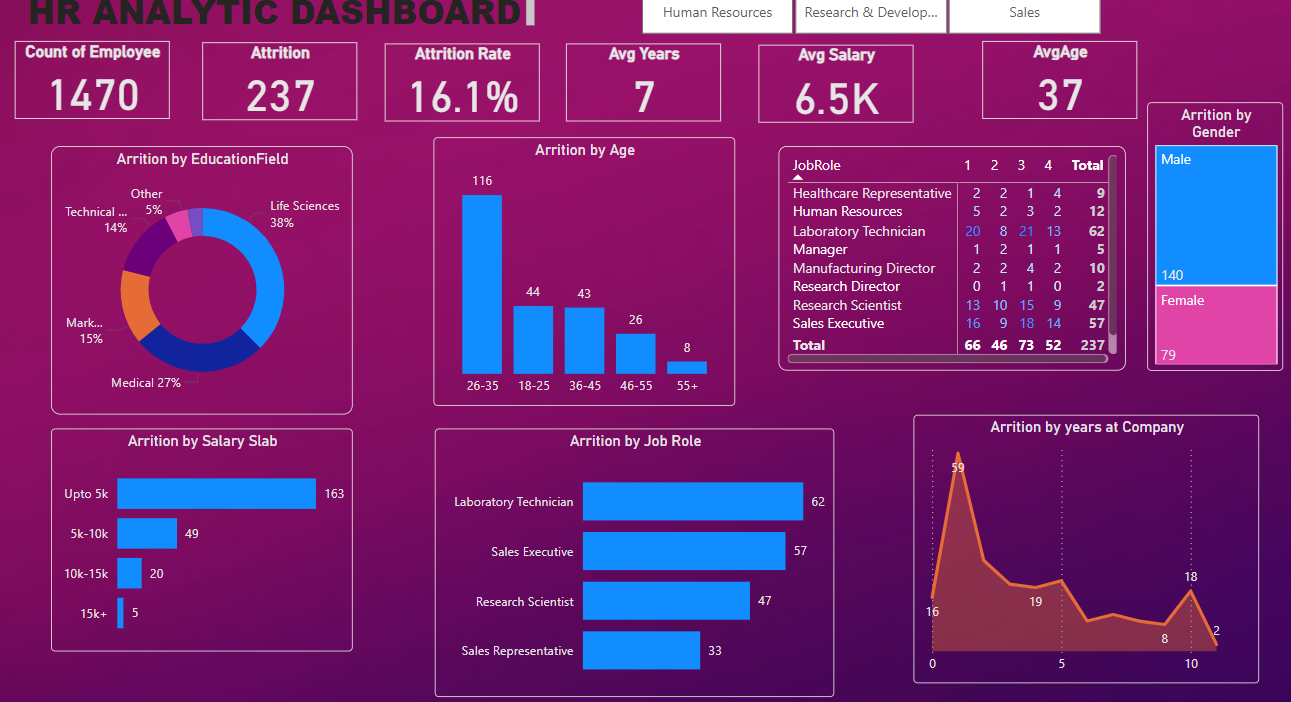

The dashboard page shown, as its layout file describes it:
{"tool":"powerbi","page":{"name":"Page 1","canvas":[1280,720],"ordinal":0},"visuals":[{"type":"card","title":"Count of Employee","fields":{"Values":["CountNonNull(HR_Analytics.EmpID)"]},"box":[42.1,57.5,149.6,75.5],"z":0},{"type":"card","title":"Attrition","fields":{"Values":["Sum(HR_Analytics.AttritionCount)"]},"box":[223.3,58.9,149.6,75.5],"z":1000},{"type":"card","title":"Attrition Rate","fields":{"Values":["HR_Analytics.AttritionRte"]},"box":[398.9,60.2,149.6,75.5],"z":2000},{"type":"card","title":"Avg Salary","fields":{"Values":["Avg(HR_Analytics.MonthlyIncome)"]},"box":[759.8,61.6,149.6,75.5],"z":3000},{"type":"card","title":"Avg Years","fields":{"Values":["Avg(HR_Analytics.YearsAtCompany)"]},"box":[574.5,60.2,149.6,75.5],"z":4000},{"type":"card","title":"AvgAge","fields":{"Values":["Avg(HR_Analytics.Age)"]},"box":[976.6,57.5,149.6,75.5],"z":5000},{"type":"donutChart","title":"Arrition by EducationField","fields":{"Category":["HR_Analytics.EducationField"],"Y":["Sum(HR_Analytics.AttritionCount)"]},"box":[77.8,159,290.9,259.3],"z":6000},{"type":"columnChart","title":"Arrition by Age","fields":{"Category":["HR_Analytics.AgeGroup"],"Y":["Sum(HR_Analytics.AttritionCount)"]},"box":[446.9,150.8,290.9,259.3],"z":7000},{"type":"pivotTable","fields":{"Rows":["HR_Analytics.JobRole"],"Columns":["HR_Analytics.JobSatisfaction"],"Values":["Sum(HR_Analytics.AttritionCount)"]},"box":[779,159,334.8,216.8],"z":8000},{"type":"barChart","title":"Arrition by Salary Slab","fields":{"Category":["HR_Analytics.SalarySlab"],"Y":["Sum(HR_Analytics.AttritionCount)"]},"box":[77.8,432.1,290.9,215.4],"z":9000},{"type":"barChart","title":"Arrition by Job Role","fields":{"Category":["HR_Analytics.JobRole"],"Y":["Sum(HR_Analytics.AttritionCount)"]},"box":[447.4,431.8,385.9,259.3],"z":10000},{"type":"treemap","title":"Arrition by Gender","fields":{"Group":["HR_Analytics.Gender"],"Values":["Sum(HR_Analytics.AttritionCount)"]},"box":[1134.9,117,131.5,259.3],"z":11000},{"type":"slicer","fields":{"Values":["HR_Analytics.Department"]},"box":[621.2,1.2,492.6,56.3],"z":12000},{"type":"textbox","box":[49,1.2,499.5,50.8],"z":13000},{"type":"areaChart","title":"Arrition by years at Company","fields":{"Category":["HR_Analytics.YearsAtCompany"],"Y":["Sum(HR_Analytics.AttritionCount)"]},"box":[909.4,418.4,333.4,259.3],"z":14000}]}

Visuals, with their boxes in screenshot pixels (x1, y1, x2, y2):
"Count of Employee" card: [13,33,168,111]
"Attrition" card: [201,34,355,112]
"Attrition Rate" card: [382,35,537,113]
"Avg Salary" card: [756,37,910,115]
"Avg Years" card: [564,35,719,113]
"AvgAge" card: [980,33,1135,111]
"Arrition by EducationField" donutChart: [50,138,351,406]
"Arrition by Age" columnChart: [432,129,733,397]
pivotTable - HR_Analytics.JobRole x HR_Analytics.JobSatisfaction: [776,138,1122,362]
"Arrition by Salary Slab" barChart: [50,420,351,643]
"Arrition by Job Role" barChart: [433,420,832,688]
"Arrition by Gender" treemap: [1144,94,1280,362]
slicer - HR_Analytics.Department: [612,0,1122,33]
textbox: [20,0,537,27]
"Arrition by years at Company" areaChart: [910,406,1255,674]
